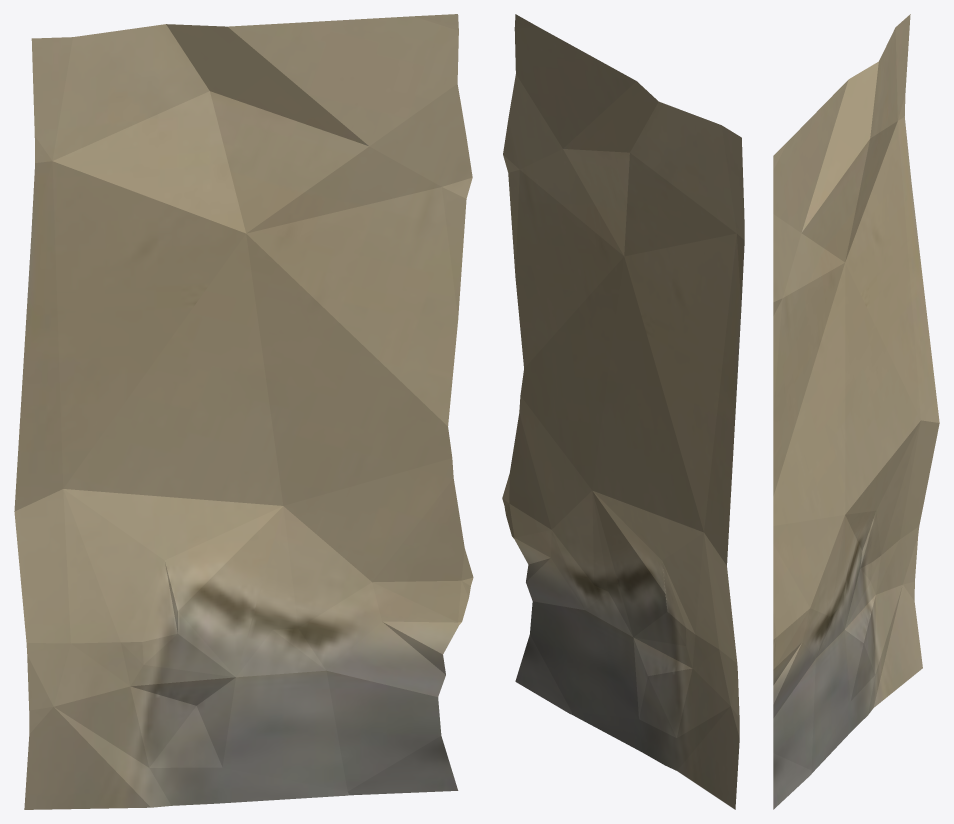
3 views of the same model, side by side, from view 1: azimuth 30°, elevation 25°; view 2: azimuth 150°, elevation 25°; view 3: azimuth 270°, elevation 25° (orthographic). The views are drawn at different scales.
Size of the model in its own units: 0.4064 by 0.8374 by 0.193.
Materials: 1 (1 with a texture image).
